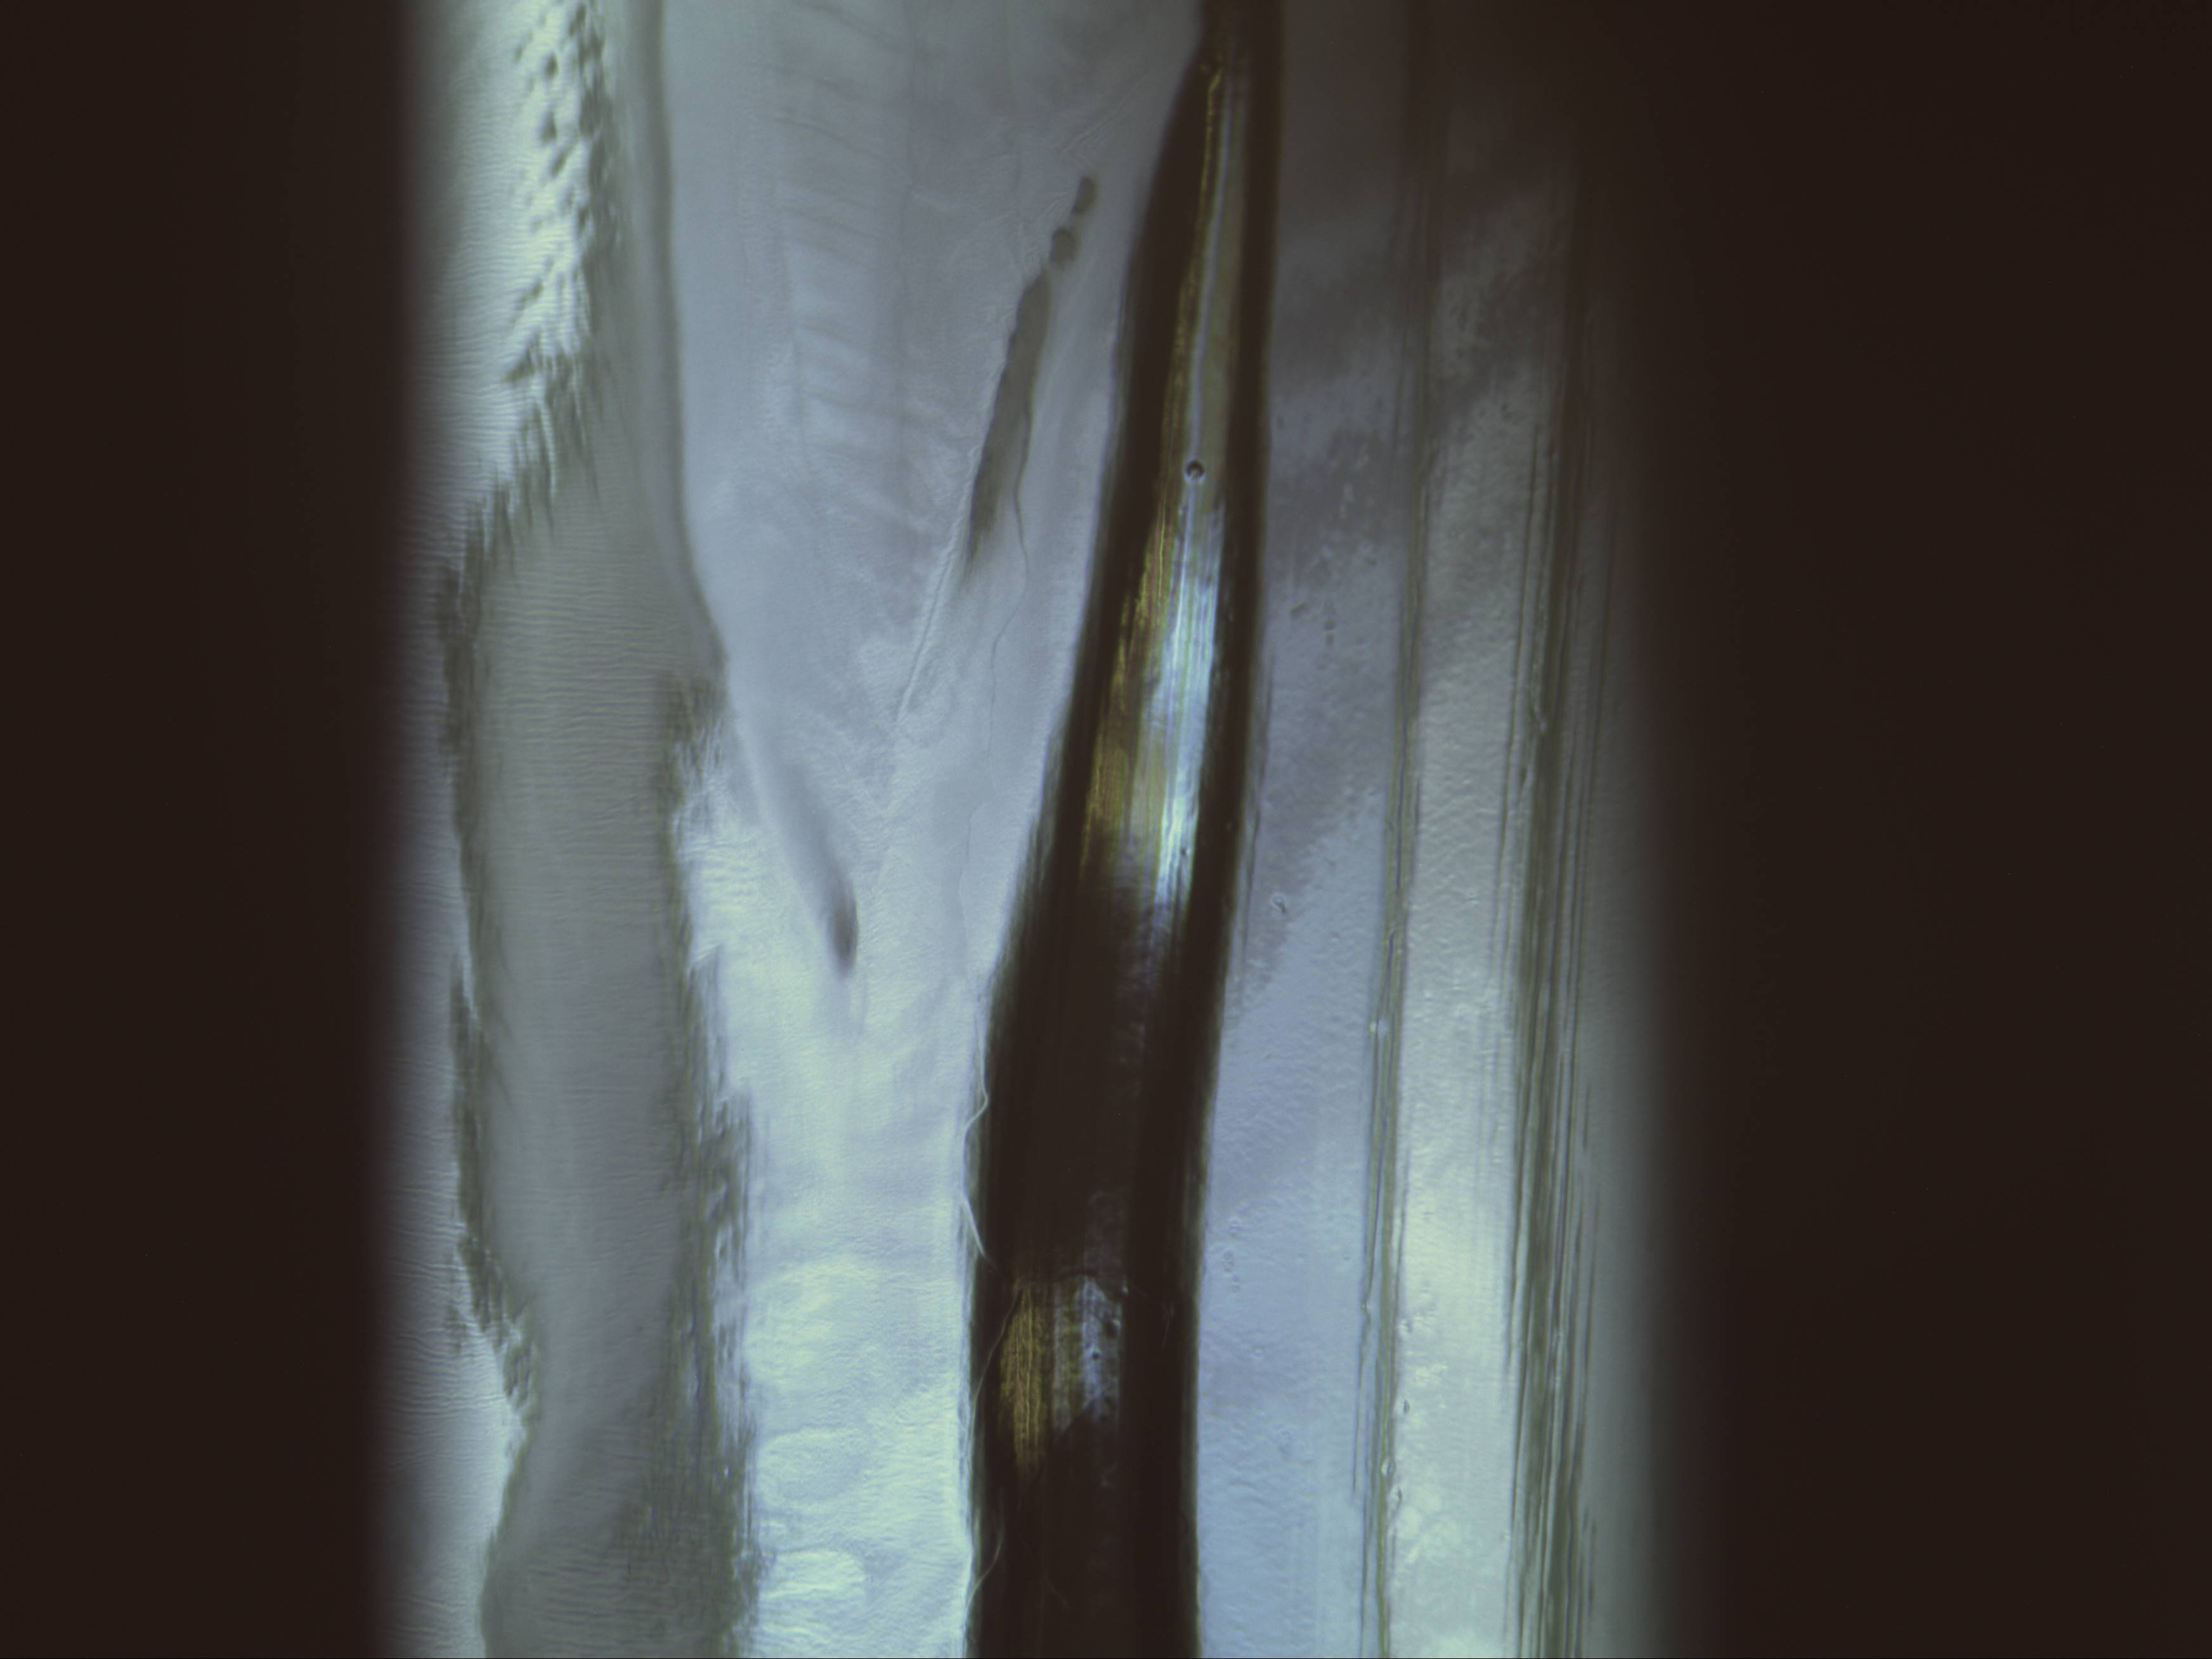defect: (1179, 451, 1212, 490)
